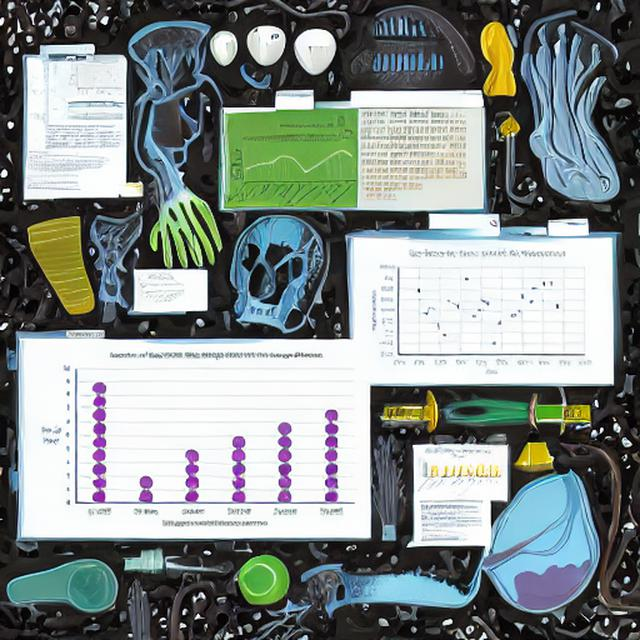Graph: (30, 347, 362, 534), (362, 244, 597, 384), (229, 136, 358, 207), (364, 39, 447, 91), (416, 449, 502, 498), (68, 62, 125, 96), (136, 274, 186, 305)
